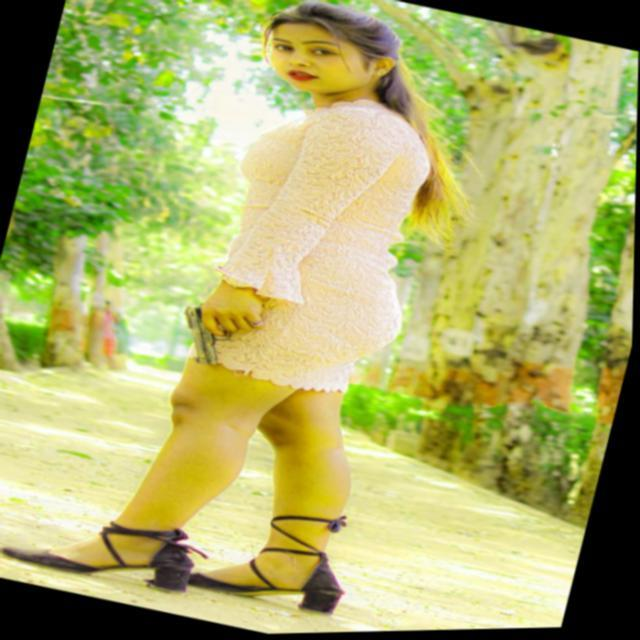weapon: (168, 283, 282, 382)
